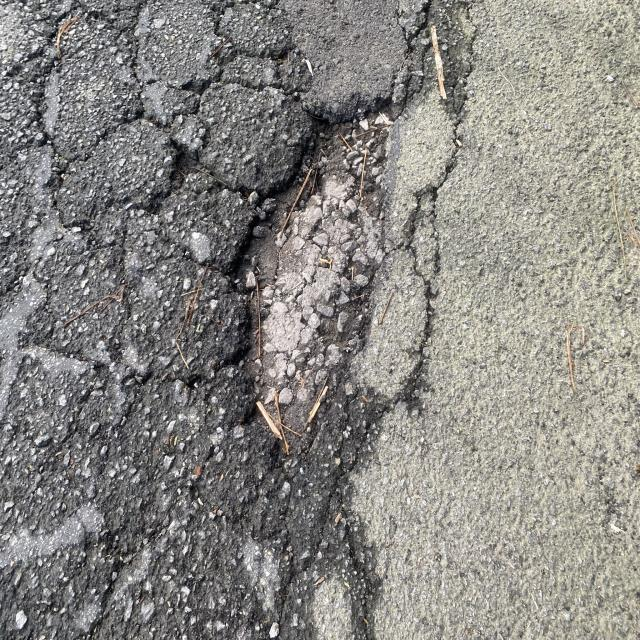pothole: (154, 49, 447, 537)
